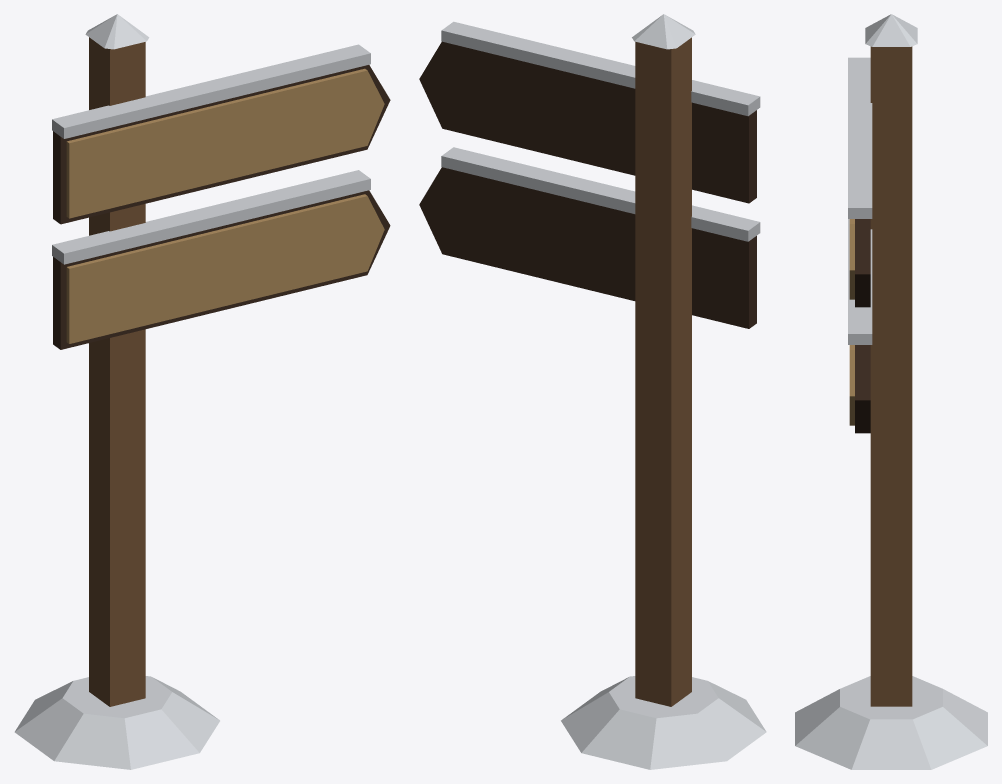
File: signpost.glb
The picture shows the model from 3 angles, left to right: view 1: azimuth 30°, elevation 25°; view 2: azimuth 150°, elevation 25°; view 3: azimuth 270°, elevation 25°; orthographic projection.
Visible parts, largest first — view 1: Post, BoardBottom, BoardTop; view 2: Post, BoardTop, BoardBottom; view 3: Post, BoardTop, BoardBottom.
Boxes of the visible parts, x1=… form: Post: x1=14, y1=14, x2=219, y2=769; BoardBottom: x1=52, y1=170, x2=390, y2=349; BoardTop: x1=52, y1=44, x2=390, y2=224; Post: x1=561, y1=14, x2=766, y2=769; BoardTop: x1=419, y1=21, x2=760, y2=203; BoardBottom: x1=419, y1=147, x2=760, y2=328; Post: x1=795, y1=14, x2=987, y2=769; BoardTop: x1=848, y1=57, x2=872, y2=307; BoardBottom: x1=848, y1=219, x2=872, y2=433.
Size of the model in its own units: 1.13 by 2.27 by 0.5543.
